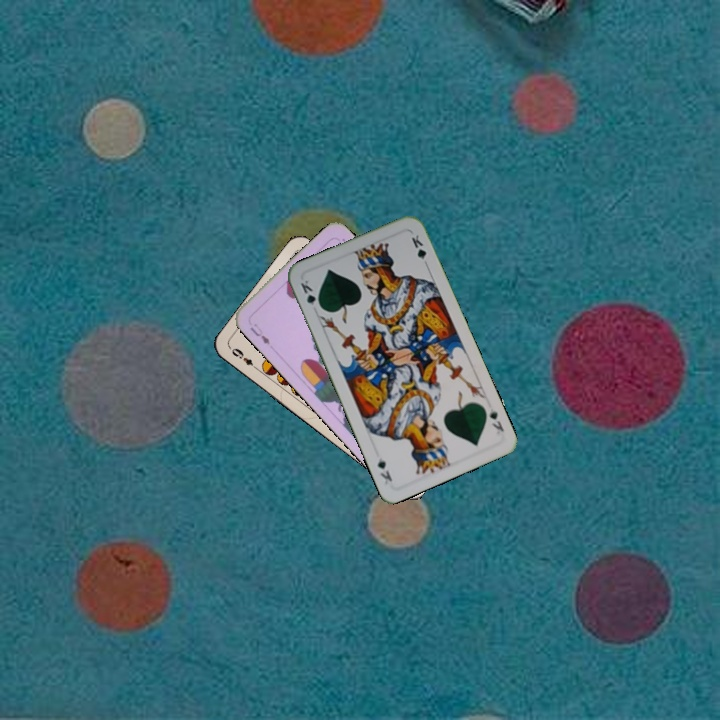E9: (226, 343, 261, 373)
EU: (246, 319, 272, 347)
GK: (297, 276, 324, 312), (485, 404, 507, 437)
